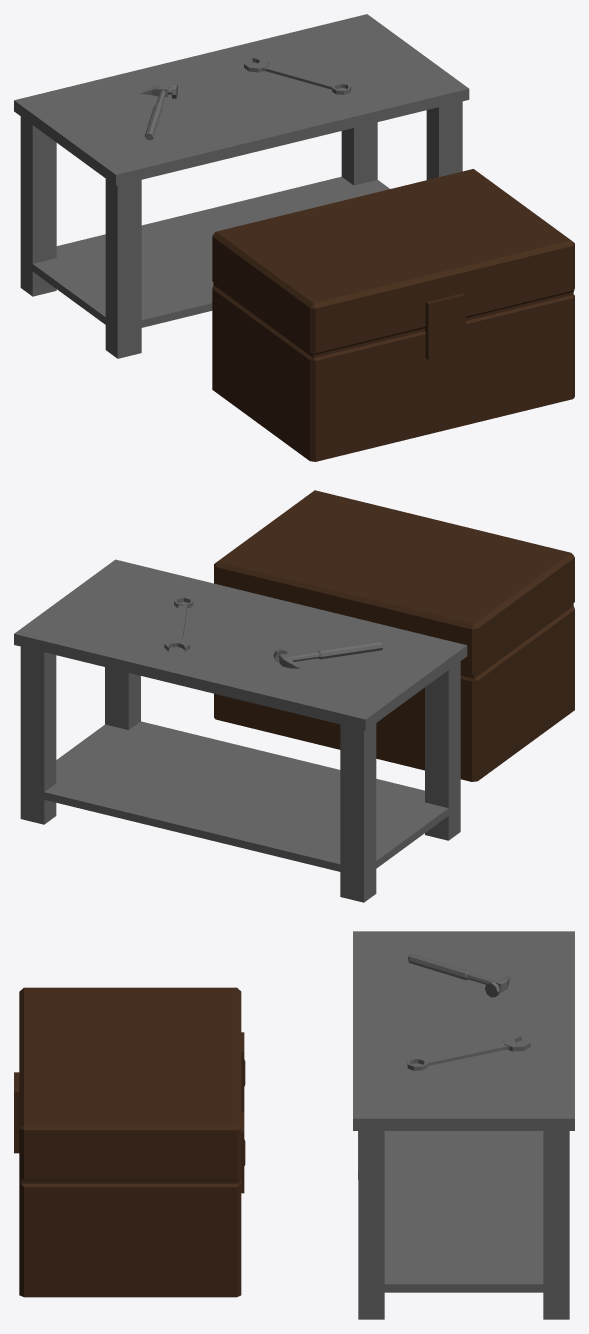
3 renders of one model, top to bottom at view 1: azimuth 30°, elevation 25°; view 2: azimuth 150°, elevation 25°; view 3: azimuth 270°, elevation 25°, orthographic. The views are drawn at different scales.
Visible parts, largest first — view 1: Cube, Plane; view 2: Plane, Cube; view 3: Plane, Cube.
Boxes of the visible parts, x1,y1,x2,y2 form: Cube: [212, 169, 574, 461]; Plane: [14, 14, 469, 358]; Plane: [14, 559, 467, 902]; Cube: [214, 490, 574, 781]; Plane: [353, 931, 574, 1319]; Cube: [14, 987, 245, 1297].
Bounding box in the file's own units: 400 × 216 × 505.
